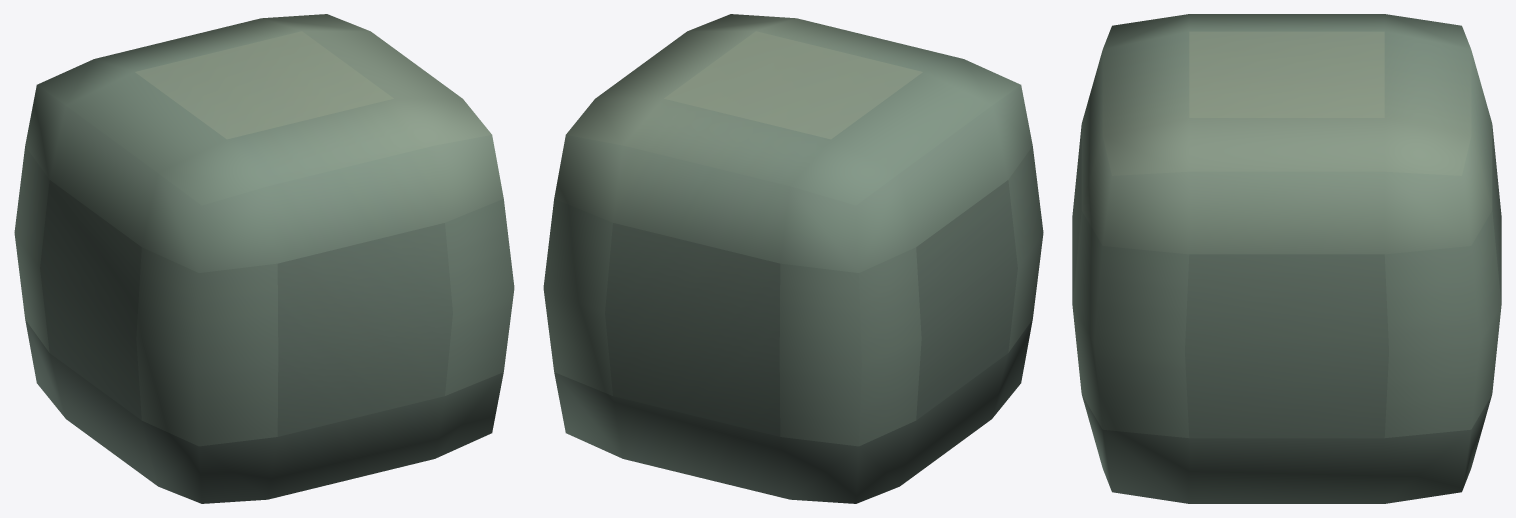
File: block_stone1_2_tiny_LOD_group.fbx
The picture shows the model from 3 angles, left to right: view 1: azimuth 30°, elevation 25°; view 2: azimuth 150°, elevation 25°; view 3: azimuth 270°, elevation 25°; orthographic projection. The views are drawn at different scales.
Parts seen in each view (by area): view 1: block_stone1_2_tiny_LOD0; view 2: block_stone1_2_tiny_LOD0; view 3: block_stone1_2_tiny_LOD0.
Part boxes in pixels (bbox=[...]): block_stone1_2_tiny_LOD0: bbox=[14, 14, 514, 503]; block_stone1_2_tiny_LOD0: bbox=[543, 14, 1043, 503]; block_stone1_2_tiny_LOD0: bbox=[1072, 14, 1501, 503].
Size of what is drawn, in the model's own units: 31.87 by 30 by 31.68.
Materials: 1 (1 with a texture image).
